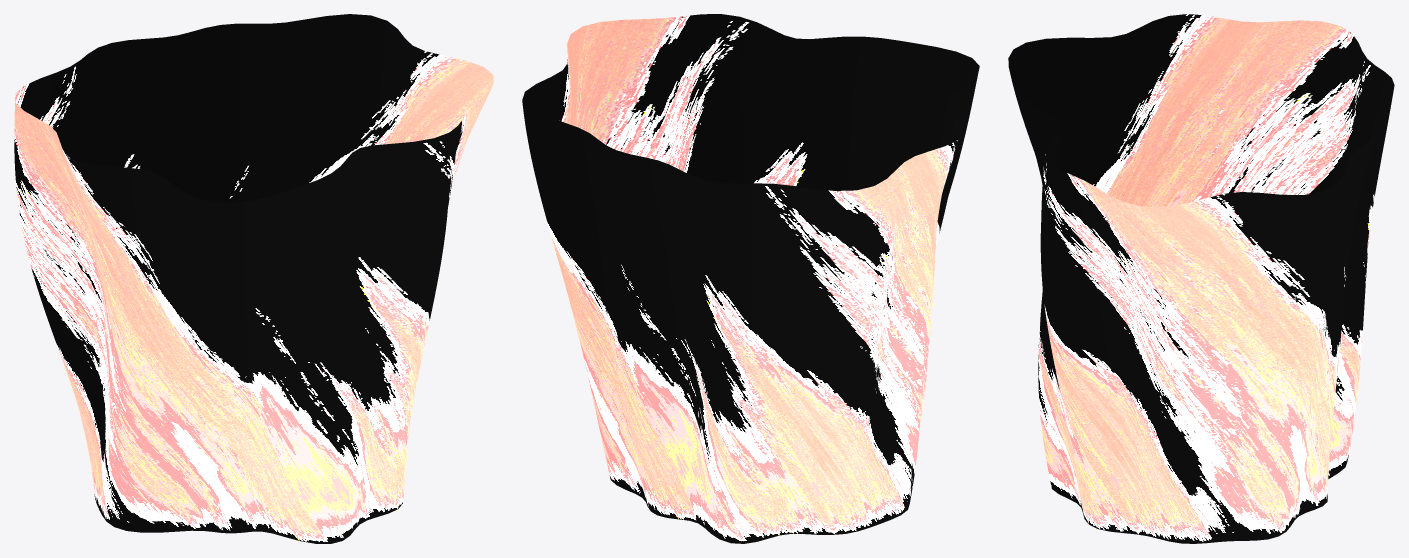
Rendered from devil_outer_3.glb.
The picture shows the model from 3 angles, left to right: view 1: azimuth 30°, elevation 25°; view 2: azimuth 150°, elevation 25°; view 3: azimuth 270°, elevation 25°; orthographic projection.
Visible parts, largest first — view 1: devil_outer_3; view 2: devil_outer_3; view 3: devil_outer_3.
Part boxes in pixels (x1,y1,x2,y2): devil_outer_3: (14,14,493,543); devil_outer_3: (522,14,979,543); devil_outer_3: (1008,14,1394,543).
Size of the model in its own units: 21.08 by 19.2 by 17.83.
Materials: 1 (1 with a texture image).
